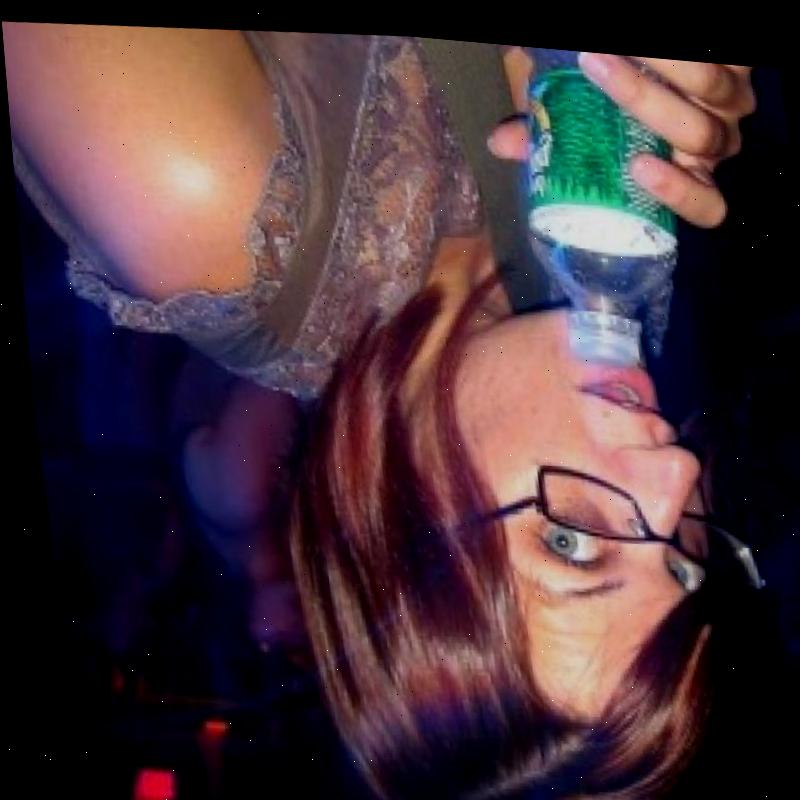botella: (499, 35, 690, 366)
